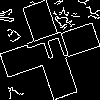F: (25, 25, 79, 69)
